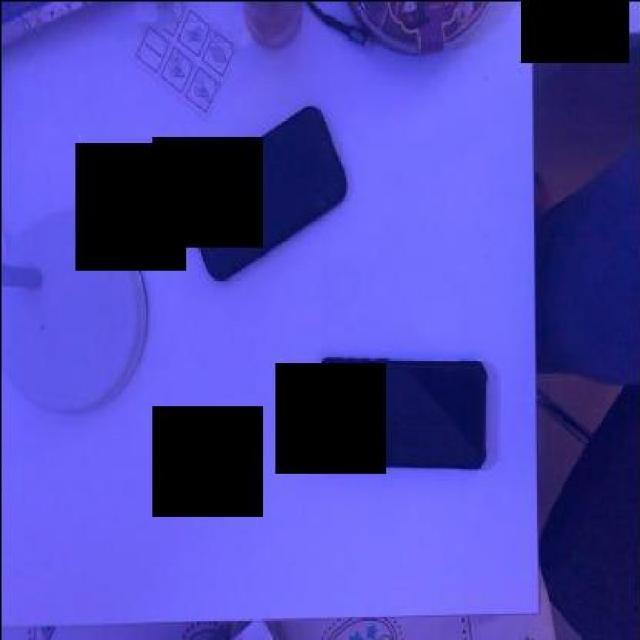phone: (181, 107, 347, 283), (316, 353, 488, 473)
